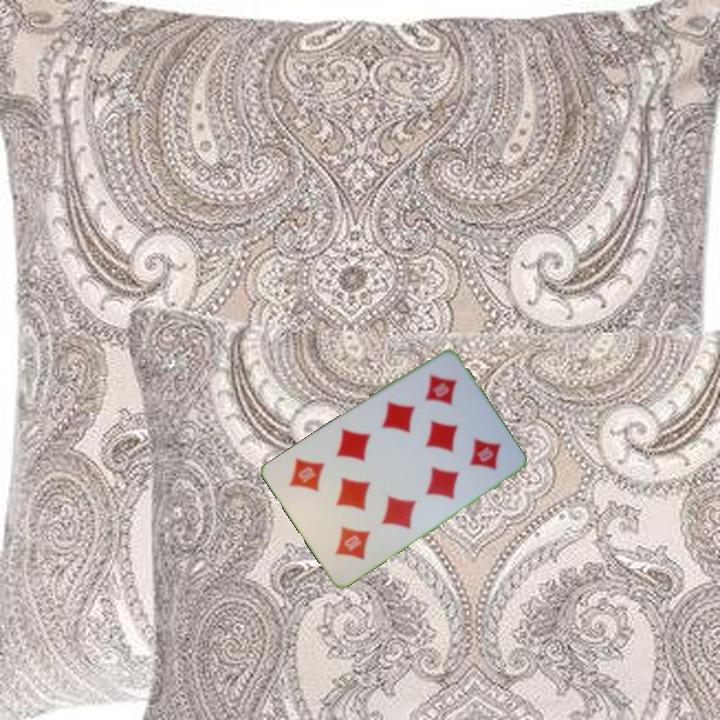d_10.png: (400, 356, 483, 442), (305, 492, 388, 577)
